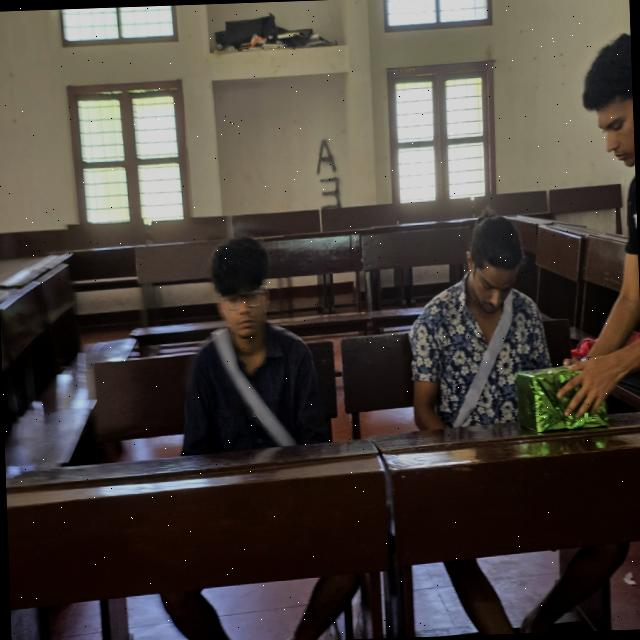seatbelt: (426, 302, 548, 428)
